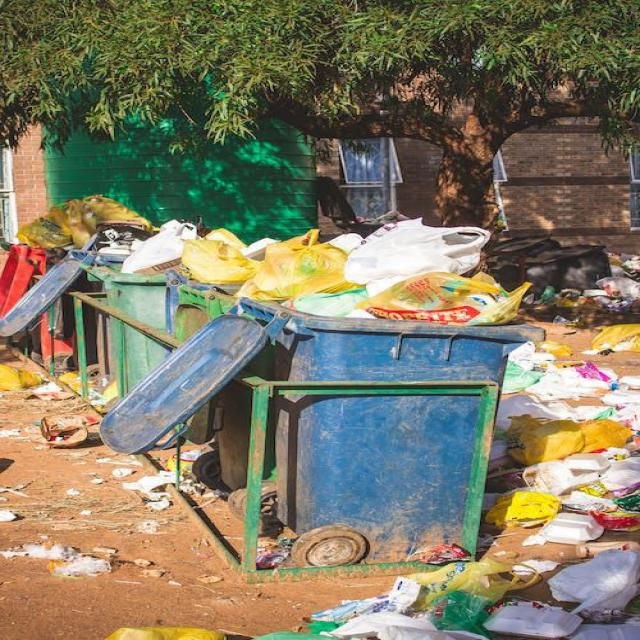trash: (147, 193, 524, 335), (519, 341, 640, 626), (105, 590, 480, 638), (15, 179, 141, 285), (506, 226, 626, 324)
